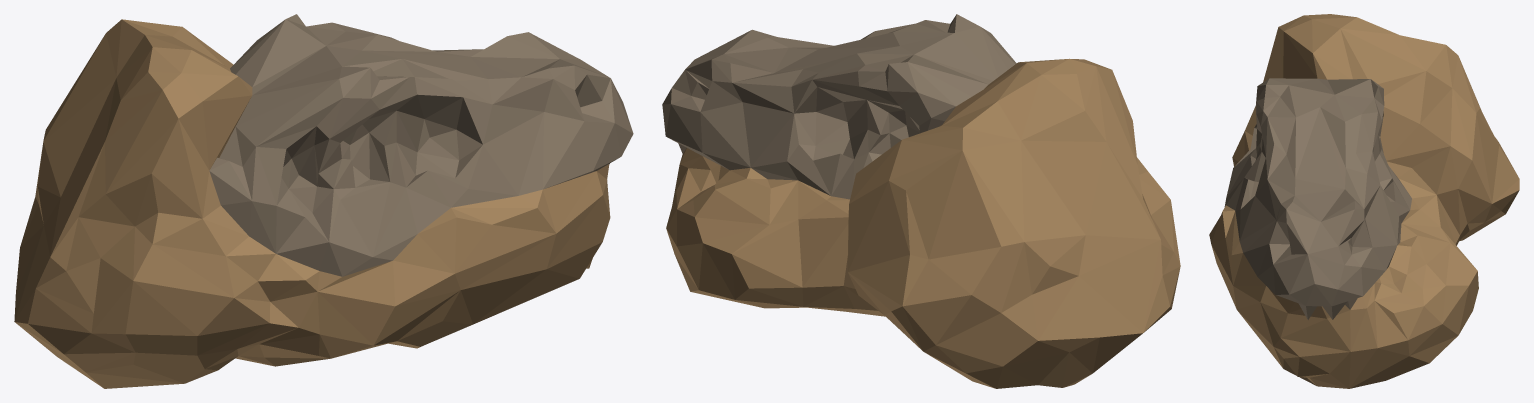
Rendered from SM_LP_FossilNode_2.fbx.
The picture shows the model from 3 angles, left to right: view 1: azimuth 30°, elevation 25°; view 2: azimuth 150°, elevation 25°; view 3: azimuth 270°, elevation 25°; orthographic projection. The views are drawn at different scales.
Parts seen in each view (by area): view 1: SM_LP_FossilNode_2; view 2: SM_LP_FossilNode_2; view 3: SM_LP_FossilNode_2.
Boxes of the visible parts, left/top/right/bottom form: SM_LP_FossilNode_2: left=14, top=14, right=633, bottom=388; SM_LP_FossilNode_2: left=662, top=14, right=1180, bottom=388; SM_LP_FossilNode_2: left=1209, top=14, right=1519, bottom=388.
Size of the model in its own units: 1.39 by 0.7716 by 0.8684.
